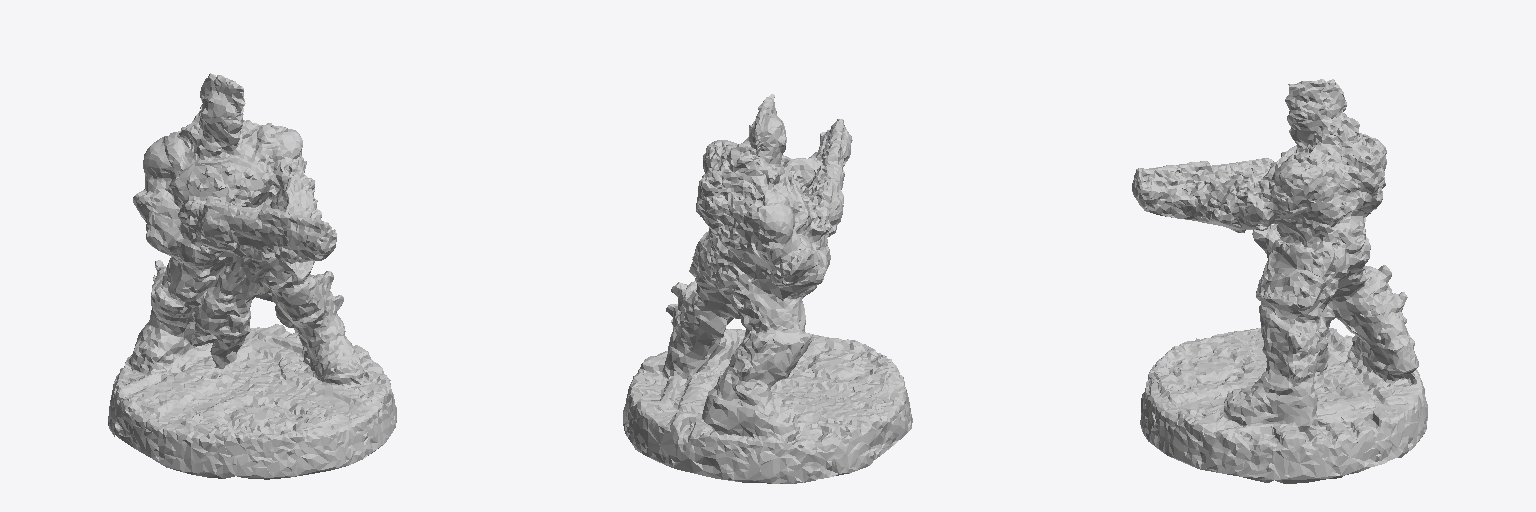
Rendered from Goliaths_8.obj.
3 views of the same model, side by side, from view 1: azimuth 30°, elevation 25°; view 2: azimuth 150°, elevation 25°; view 3: azimuth 270°, elevation 25° (orthographic).
Parts seen in each view (by area): view 1: Goliaths_8_zephyr; view 2: Goliaths_8_zephyr; view 3: Goliaths_8_zephyr.
Part boxes in pixels (x1,y1,x2,y2): Goliaths_8_zephyr: (108,73,396,479); Goliaths_8_zephyr: (623,94,912,483); Goliaths_8_zephyr: (1132,79,1427,483).
Bounding box in the file's own units: 1.22 × 1.59 × 1.27.